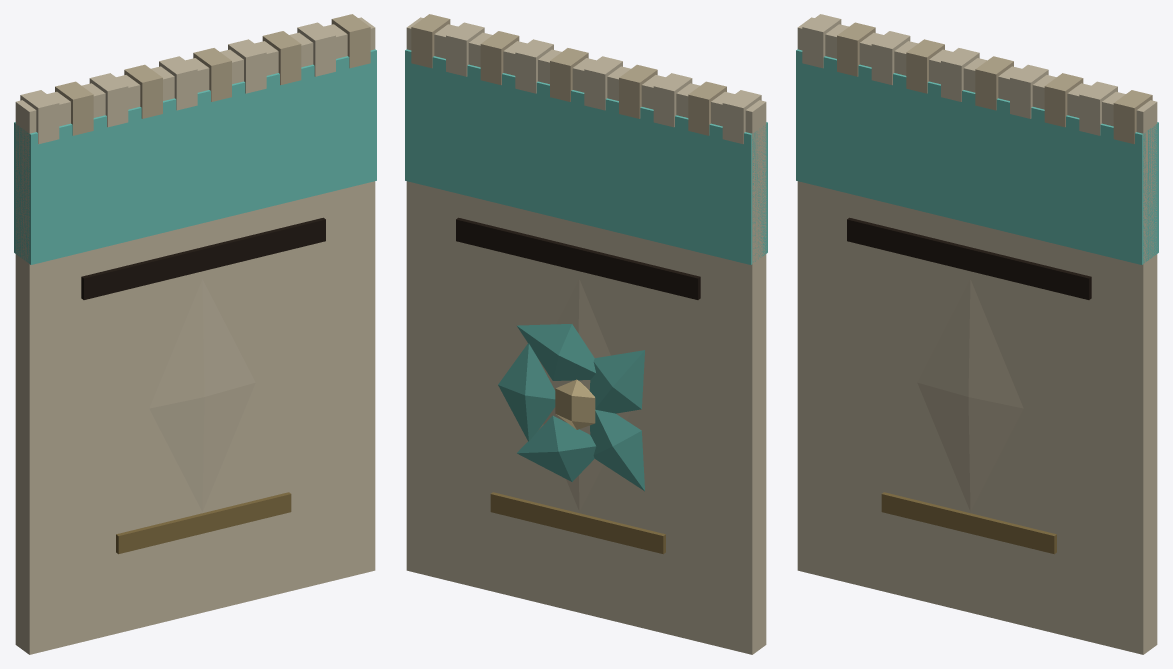
The model's file is tool_seed_packet_moonflower.glb.
3 renders of one model, left to right at view 1: azimuth 30°, elevation 25°; view 2: azimuth 150°, elevation 25°; view 3: azimuth 330°, elevation 25°, orthographic.
Parts seen in each view (by area): view 1: Packet; view 2: Packet; view 3: Packet.
Boxes of the visible parts, box(x1,y1,x2,y2) form: Packet: box(14, 14, 376, 654); Packet: box(405, 14, 767, 654); Packet: box(796, 14, 1158, 654).
Bounding box in the file's own units: 0.1 × 0.151 × 0.0121.
